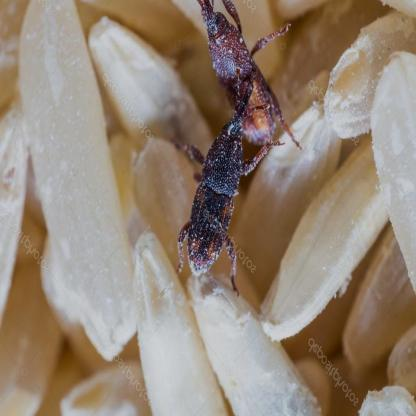rice-bug: (171, 0, 302, 295)
